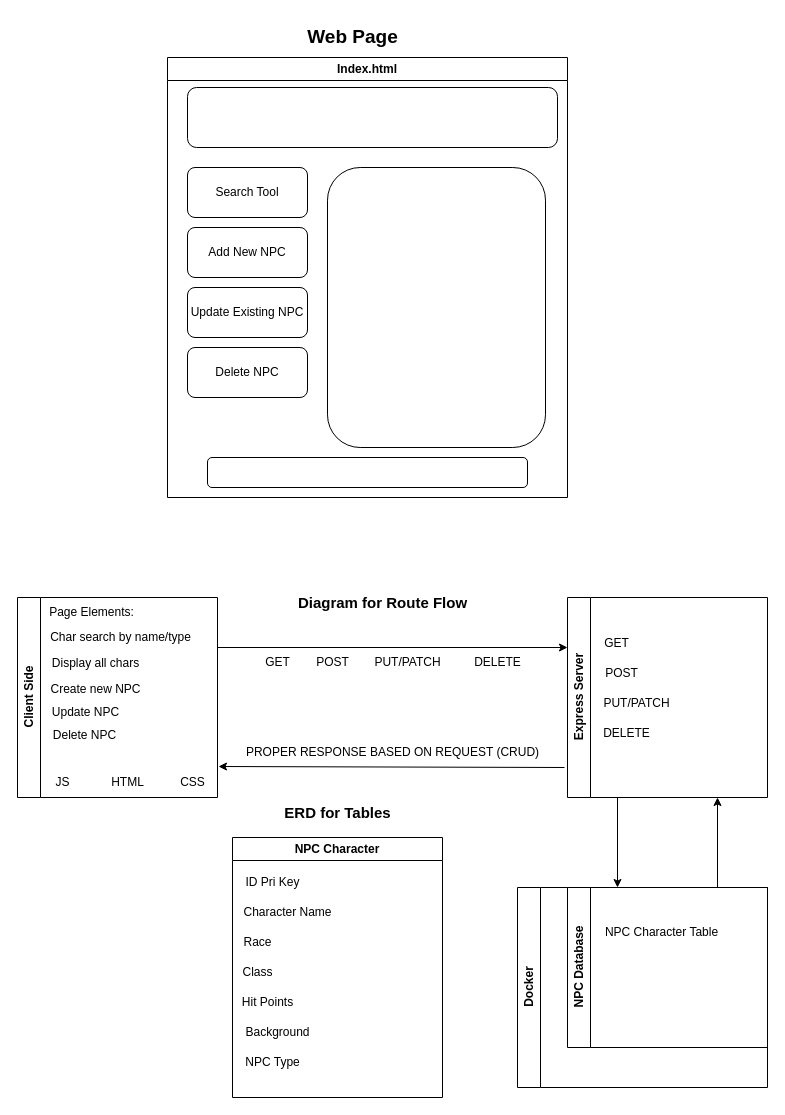
The diagram is 785 pixels wide and 1115 high, and some of its shapes have lost their labels. The shapes that lost their labels are listed below. From the top down, each one's centre as x and y in pixels, then its label:
(x=372, y=117): Header
(x=436, y=307): Results container
(x=367, y=472): Footer
